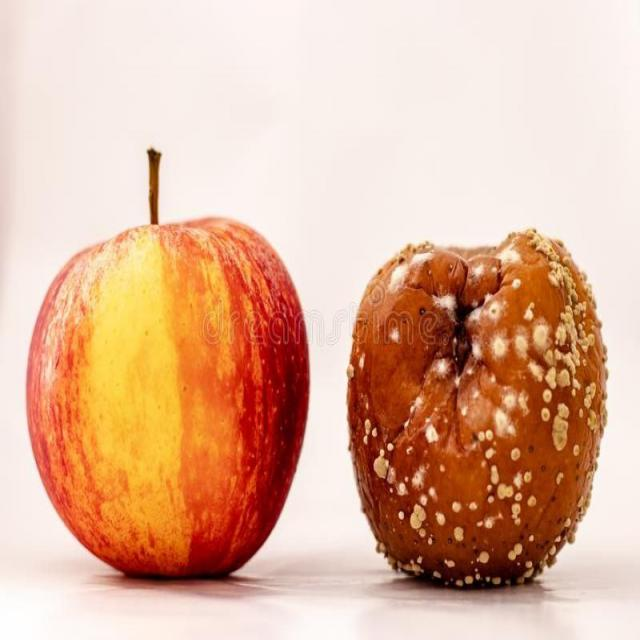fresh_apple: (25, 215, 310, 577)
rotten_apple: (349, 230, 608, 592)
